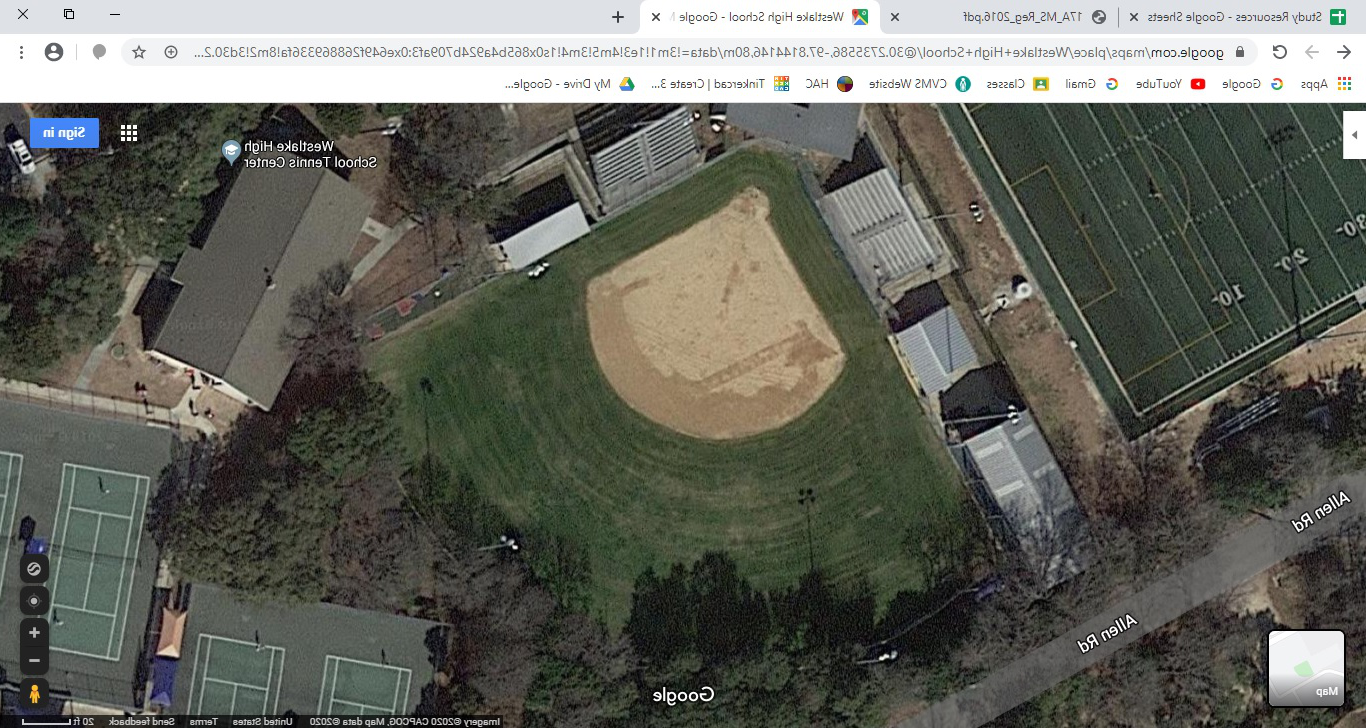baseball: (294, 156, 1056, 618)
